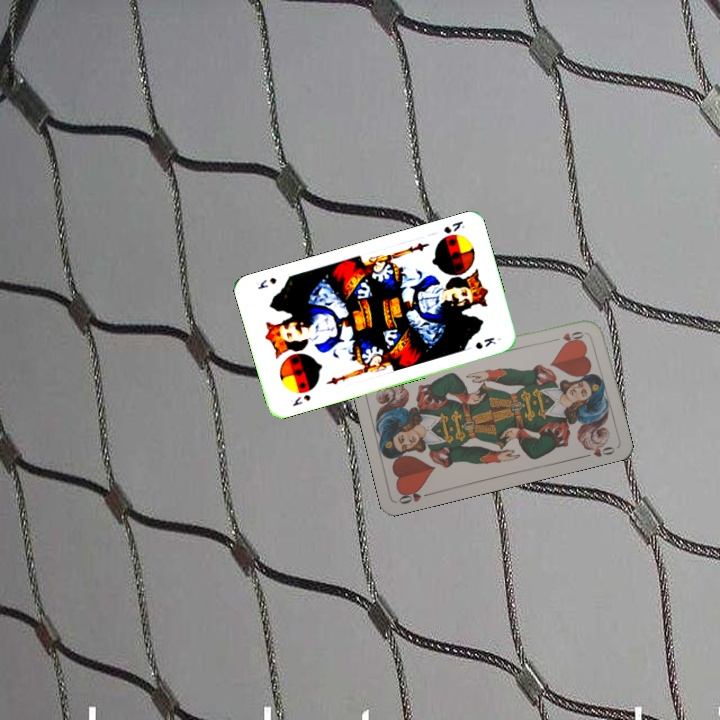HO: (394, 485, 434, 507), (549, 327, 589, 344)
SK: (440, 217, 468, 236), (287, 390, 313, 409)
